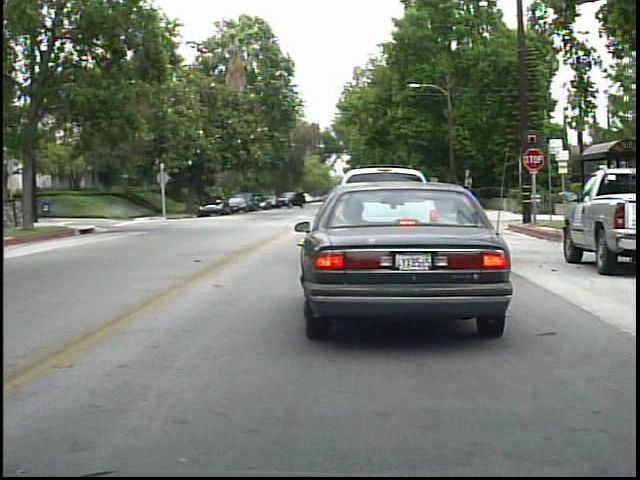person: (251, 190, 265, 213)
